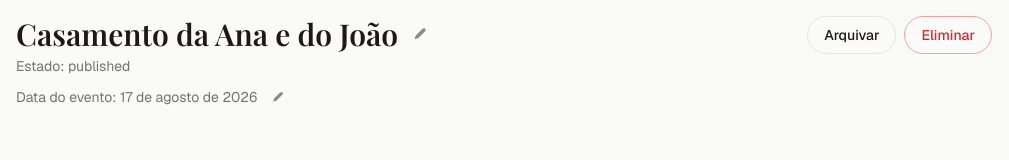
AlbumDetail — data do evento › remover a data (campo vazio) envia null
Expected: the text "Data do evento: 17 de agosto de 2026" is shown, [16, 87, 257, 107]
Click the button named "Editar data do evento": (278, 97) [265, 84, 291, 110]
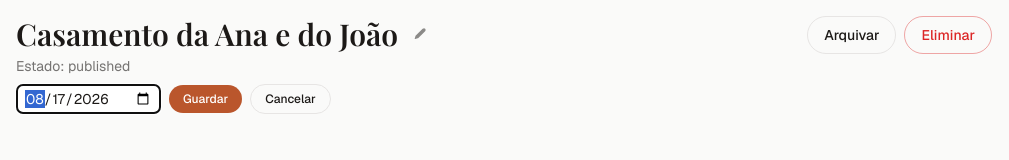
Clear the date field named "Data do evento": (88, 99) [16, 84, 161, 114]
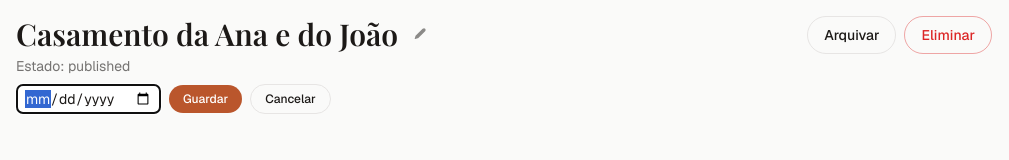
Click the button "Guardar": (206, 99) [169, 85, 242, 113]
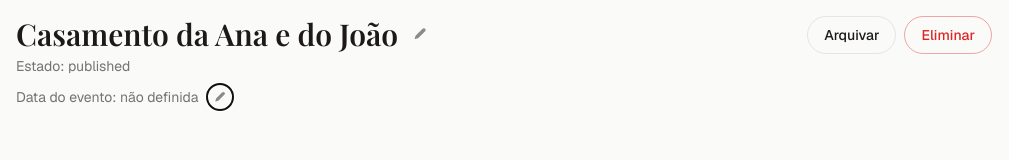
Result: the text "Data do evento: não definida" is shown at [16, 87, 198, 107]
